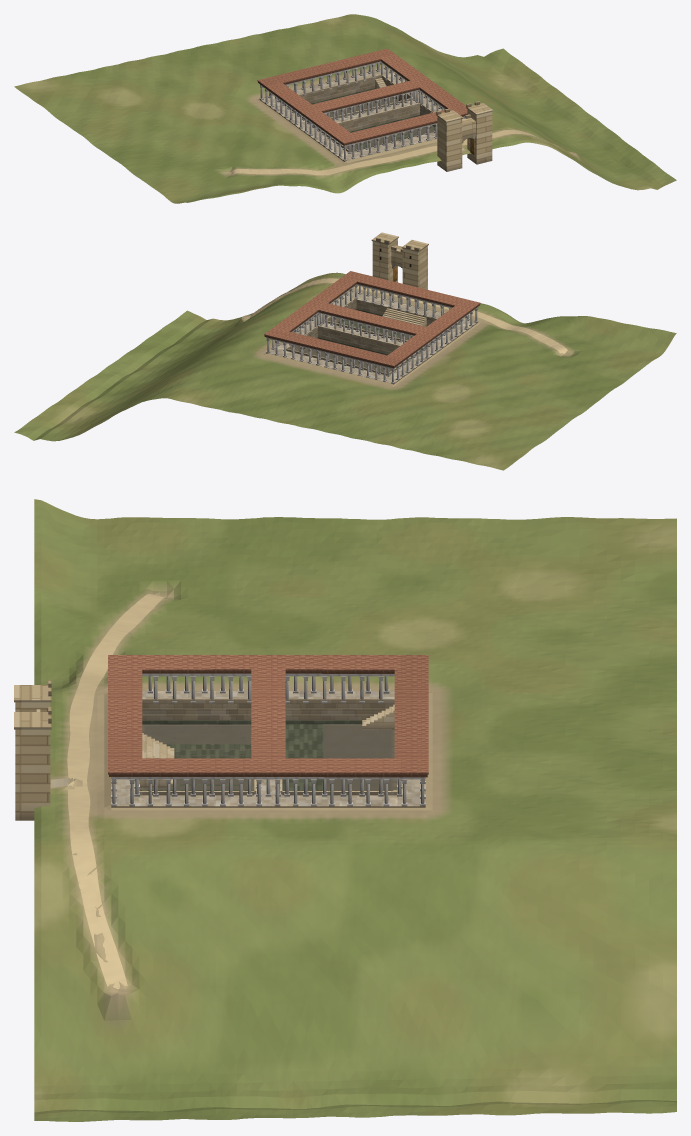
Rendered from betesda_cenario.glb.
3 renders of one model, top to bottom at view 1: azimuth 30°, elevation 25°; view 2: azimuth 150°, elevation 25°; view 3: azimuth 270°, elevation 25°, orthographic. The views are drawn at different scales.
Visible parts, largest first — view 1: Betesda_Terreno, Betesda_Colunas, Porta_Ovelhas, Betesda_Piso, Betesda_Tanques, Telhado_Norte, Betesda_Trilha, Telhado_Sul, Telhado_Oeste, Telhado_Dique, Telhado_Leste; view 2: Betesda_Terreno, Betesda_Colunas, Betesda_Piso, Porta_Ovelhas, Betesda_Tanques, Telhado_Norte, Telhado_Sul, Telhado_Oeste, Telhado_Leste, Telhado_Dique, Betesda_Trilha; view 3: Betesda_Terreno, Betesda_Tanques, Betesda_Trilha, Betesda_Colunas, Betesda_Piso, Telhado_Leste, Porta_Ovelhas, Telhado_Oeste, Telhado_Sul, Telhado_Norte, Telhado_Dique.
Part boxes in pixels (x1=…): Betesda_Terreno: x1=14, y1=14, x2=676, y2=203; Betesda_Colunas: x1=259, y1=61, x2=465, y2=161; Porta_Ovelhas: x1=436, y1=101, x2=493, y2=171; Betesda_Piso: x1=259, y1=69, x2=441, y2=161; Betesda_Tanques: x1=301, y1=77, x2=434, y2=148; Telhado_Norte: x1=257, y1=48, x2=394, y2=87; Betesda_Trilha: x1=231, y1=130, x2=545, y2=175; Telhado_Sul: x1=335, y1=105, x2=467, y2=145; Telhado_Oeste: x1=265, y1=82, x2=350, y2=139; Telhado_Dique: x1=309, y1=80, x2=421, y2=112; Telhado_Leste: x1=379, y1=54, x2=464, y2=108; Betesda_Terreno: x1=14, y1=272, x2=676, y2=470; Betesda_Colunas: x1=266, y1=284, x2=478, y2=383; Betesda_Piso: x1=266, y1=291, x2=478, y2=384; Porta_Ovelhas: x1=371, y1=232, x2=428, y2=289; Betesda_Tanques: x1=289, y1=299, x2=436, y2=355; Telhado_Norte: x1=264, y1=329, x2=402, y2=368; Telhado_Sul: x1=341, y1=271, x2=480, y2=310; Telhado_Oeste: x1=386, y1=305, x2=473, y2=361; Telhado_Leste: x1=272, y1=277, x2=357, y2=332; Telhado_Dique: x1=316, y1=302, x2=428, y2=335; Betesda_Trilha: x1=249, y1=278, x2=567, y2=353; Betesda_Terreno: x1=34, y1=499, x2=676, y2=1121; Betesda_Tanques: x1=139, y1=703, x2=397, y2=790; Betesda_Trilha: x1=67, y1=594, x2=165, y2=988; Betesda_Colunas: x1=111, y1=673, x2=425, y2=806; Betesda_Piso: x1=111, y1=691, x2=425, y2=807; Telhado_Leste: x1=136, y1=758, x2=400, y2=777; Porta_Ovelhas: x1=14, y1=680, x2=51, y2=820; Telhado_Oeste: x1=142, y1=655, x2=400, y2=673; Telhado_Sul: x1=108, y1=655, x2=142, y2=776; Telhado_Norte: x1=394, y1=655, x2=428, y2=777; Telhado_Dique: x1=251, y1=666, x2=285, y2=760.
Bounding box in the file's own units: 150 × 37.42 × 94.92.
Materials: 13 (9 with a texture image).
